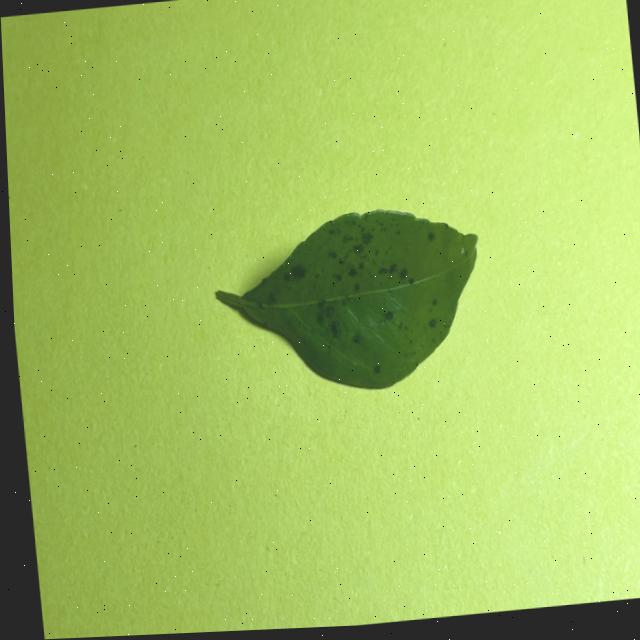sooty_mold: (217, 209, 477, 388)
